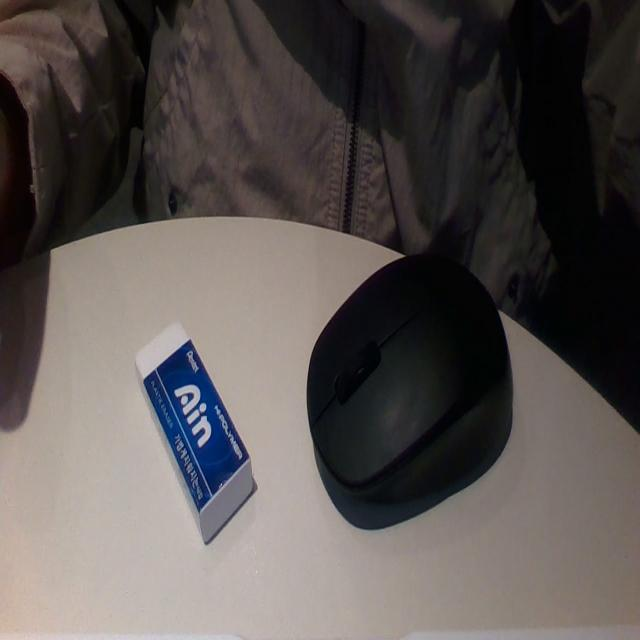eraser: (130, 301, 267, 576)
mouse: (304, 233, 518, 523)
